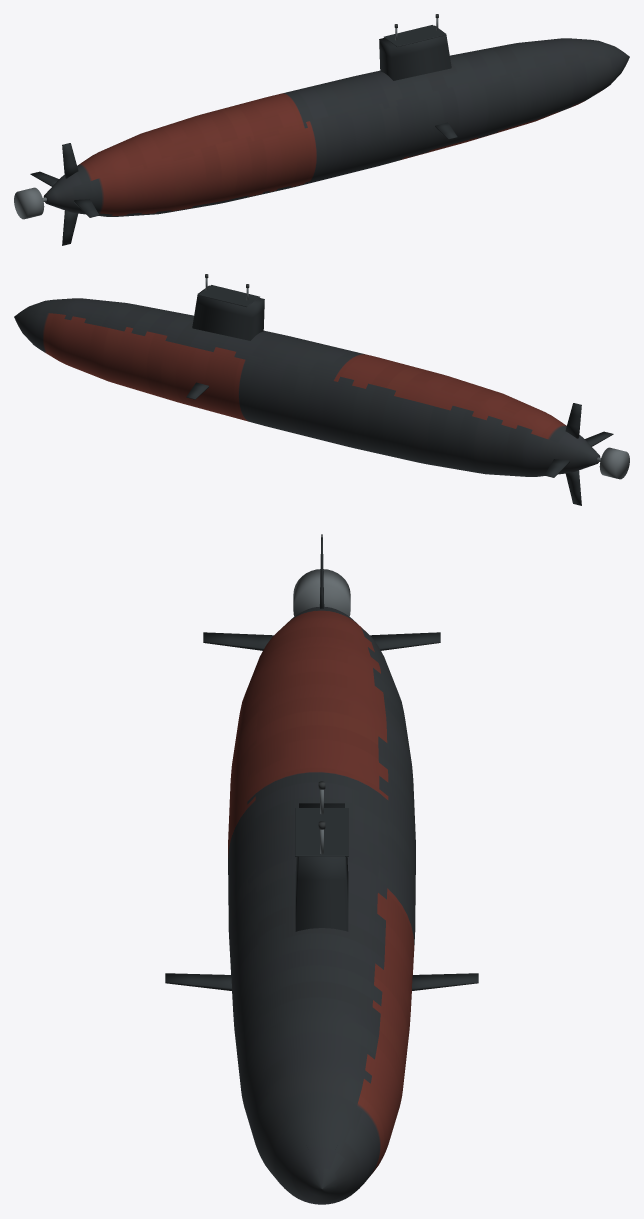
The model's file is RU_SSN_Akula.glb.
3 views of the same model, one above another, from view 1: azimuth 30°, elevation 25°; view 2: azimuth 150°, elevation 25°; view 3: azimuth 270°, elevation 25° (orthographic). The views are drawn at different scales.
Parts seen in each view (by area): view 1: RU_SSN_Akula_LOD0; view 2: RU_SSN_Akula_LOD0; view 3: RU_SSN_Akula_LOD0.
Boxes of the visible parts, left/top/right/bottom form: RU_SSN_Akula_LOD0: left=14, top=14, right=629, bottom=245; RU_SSN_Akula_LOD0: left=14, top=274, right=629, bottom=505; RU_SSN_Akula_LOD0: left=165, top=534, right=478, bottom=1204.
Bounding box in the file's own units: 115 × 25.19 × 25.65.
Materials: 6 (1 with a texture image).
